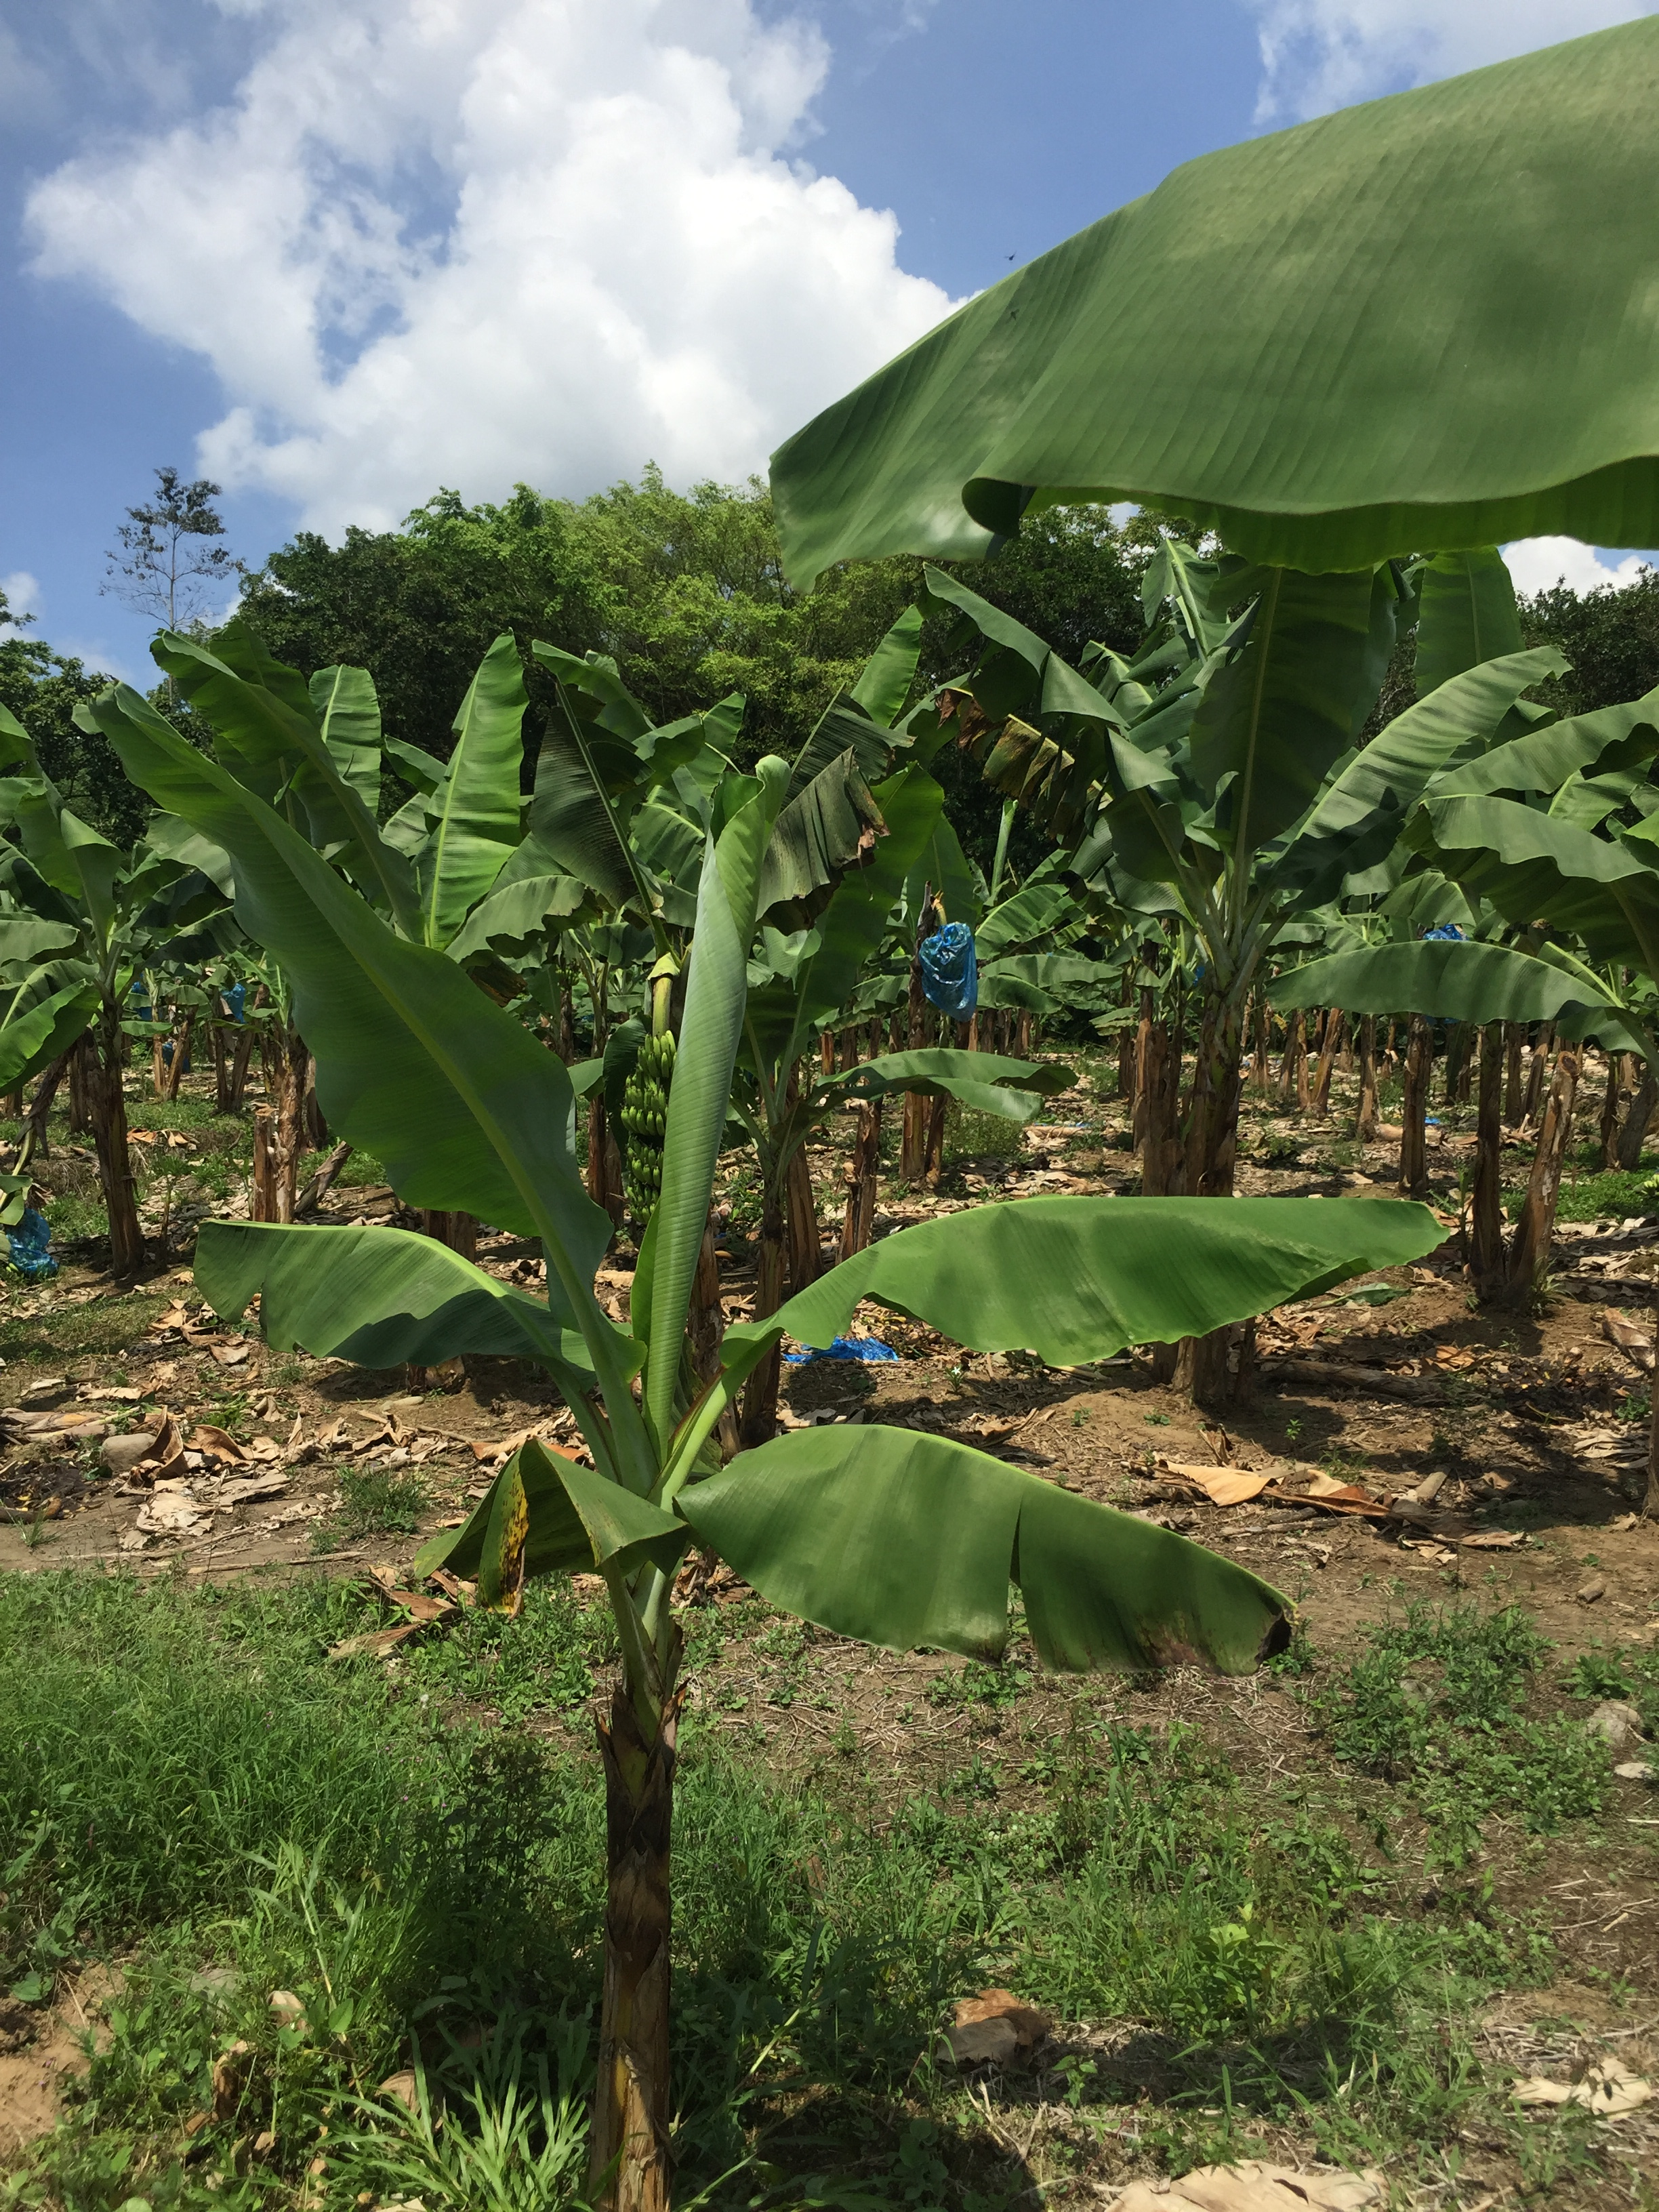candleleafs: (633, 752, 791, 1409), (990, 799, 1019, 890)
